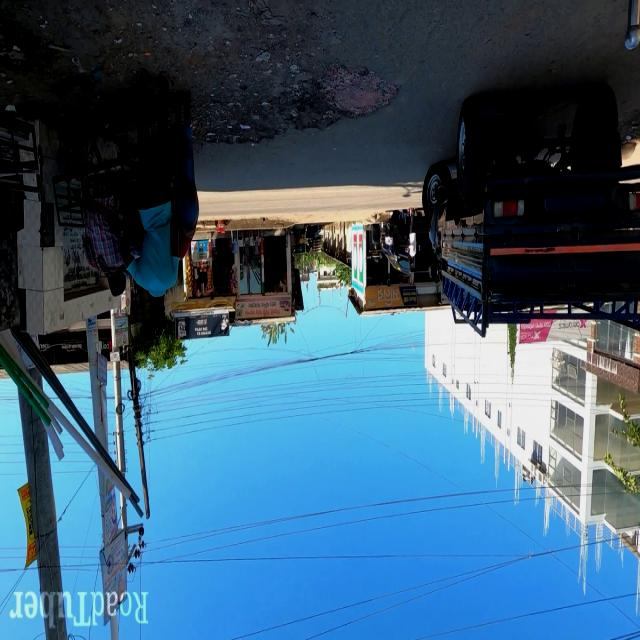black: (378, 211, 429, 286)
